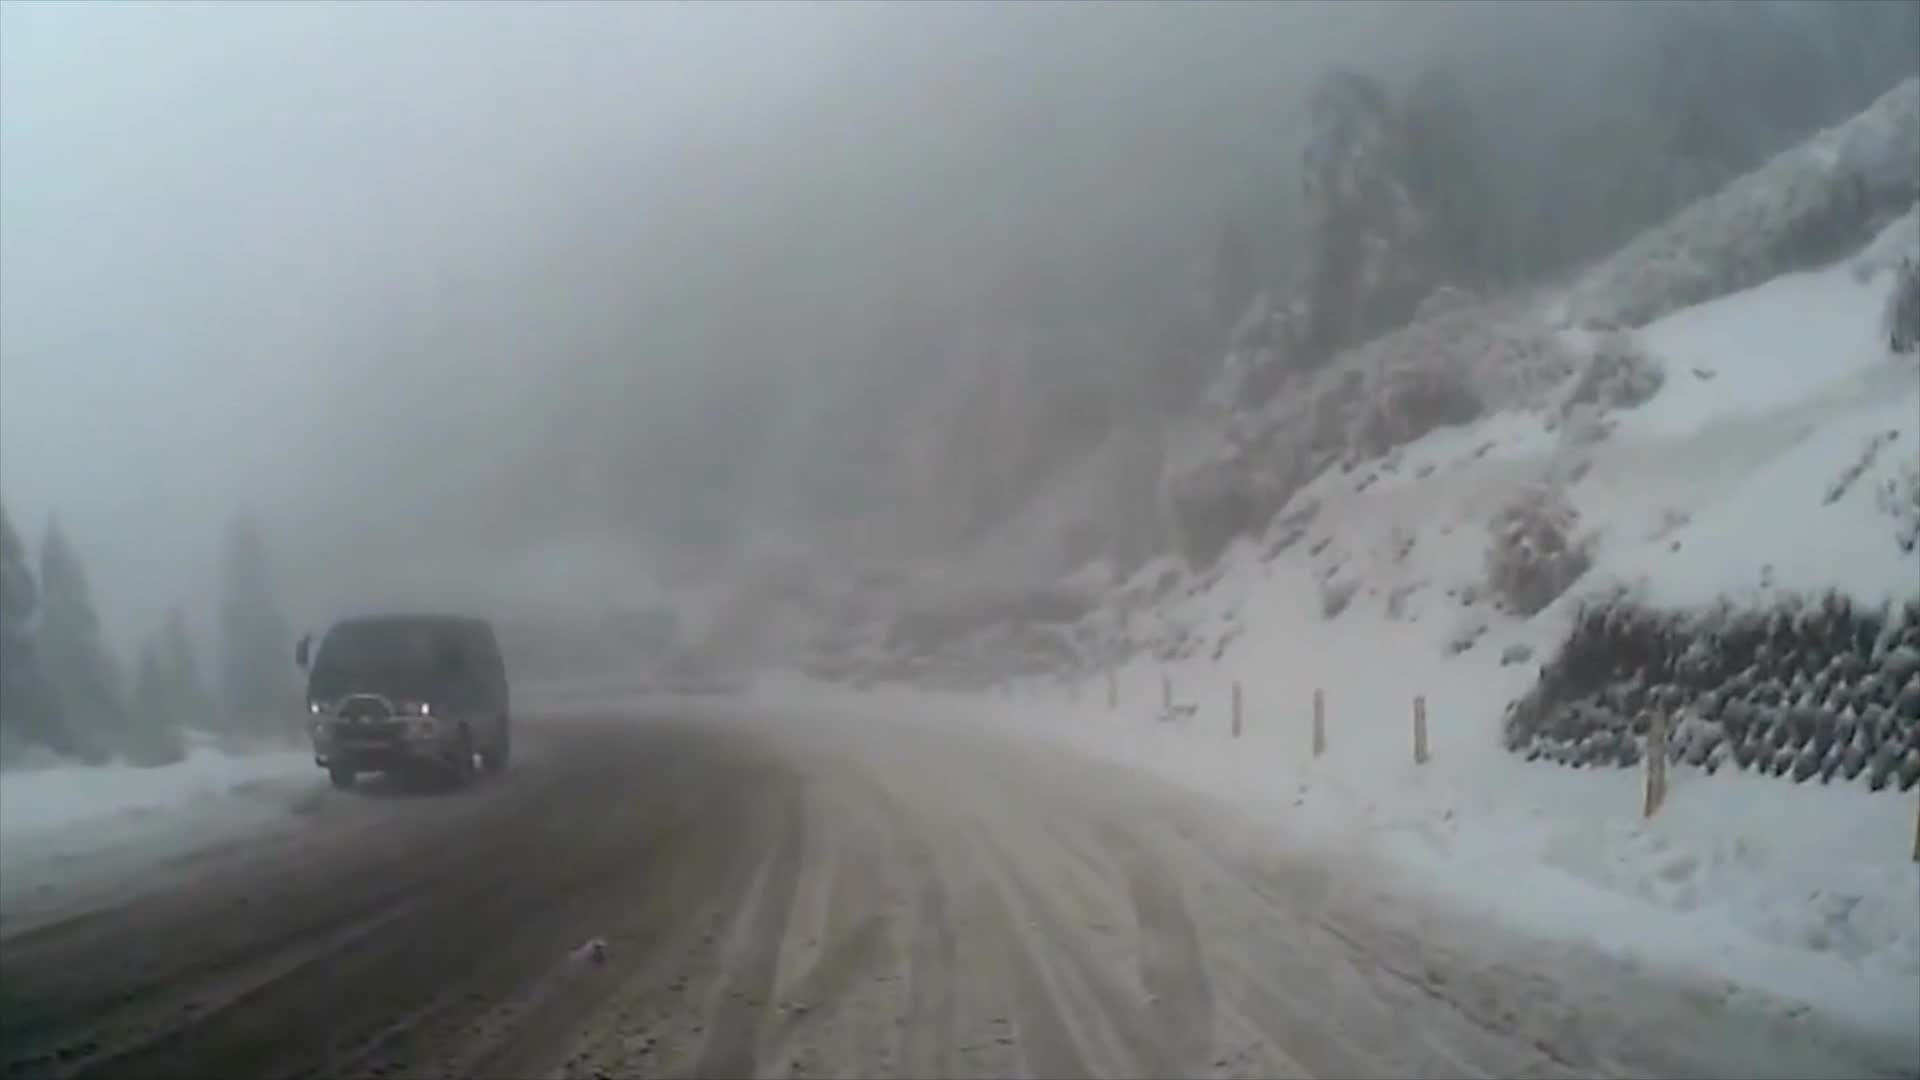vehicle: (294, 612, 514, 793)
